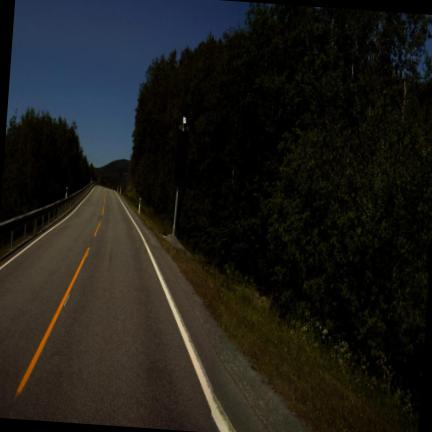Road: (0, 187, 271, 431)
